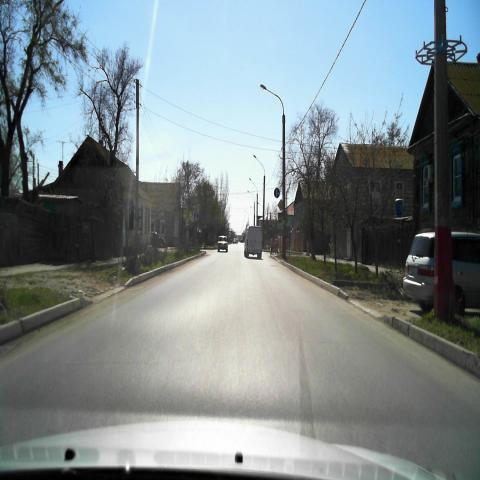2_1: (277, 199, 284, 212)
4_1_4: (273, 186, 280, 198)
5_19_1: (278, 211, 284, 223)
